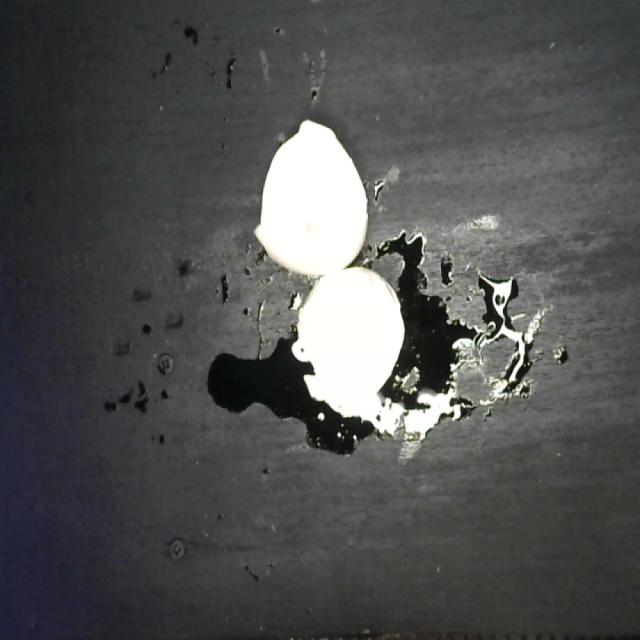biodegradable: (251, 113, 408, 420)
